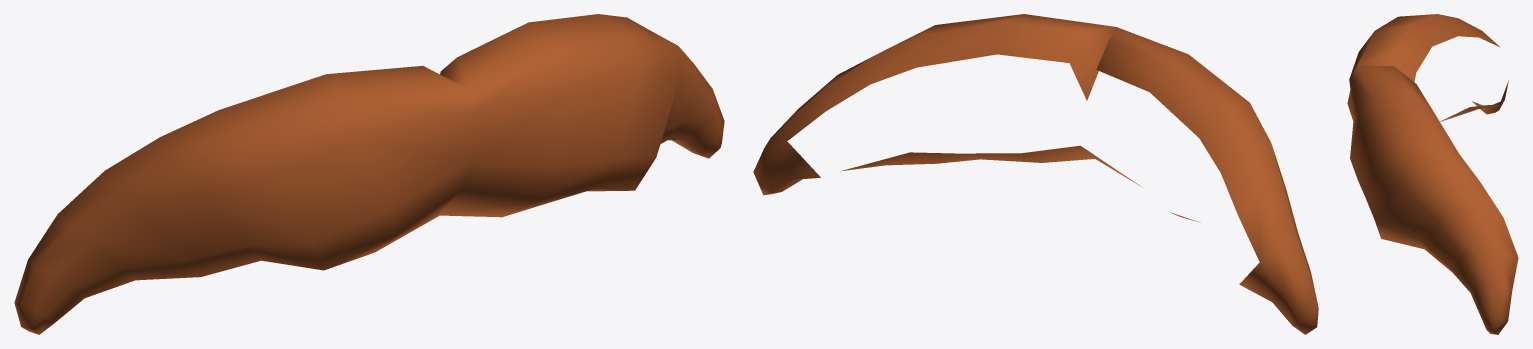
3 renders of one model, left to right at view 1: azimuth 30°, elevation 25°; view 2: azimuth 150°, elevation 25°; view 3: azimuth 270°, elevation 25°, orthographic. The views are drawn at different scales.
Parts seen in each view (by area): view 1: Wolf3D_Beard.127; view 2: Wolf3D_Beard.127; view 3: Wolf3D_Beard.127.
Part boxes in pixels (x1,y1,x2,y2): Wolf3D_Beard.127: (14,14,724,334); Wolf3D_Beard.127: (753,14,1318,334); Wolf3D_Beard.127: (1347,14,1518,334).
Size of the model in its own units: 0.0727 by 0.0242 by 0.0221.
1 material, 1 textured.
